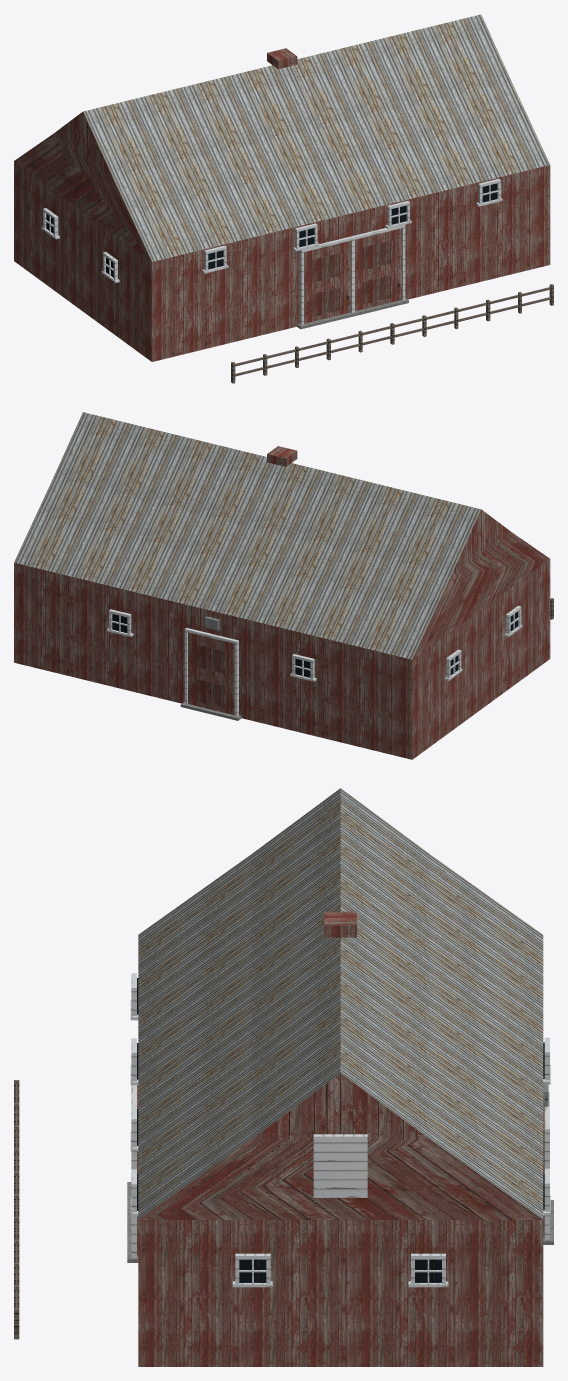
File: classic-red-barn_lod0.gltf
3 views of the same model, one above another, from view 1: azimuth 30°, elevation 25°; view 2: azimuth 150°, elevation 25°; view 3: azimuth 270°, elevation 25° (orthographic). The views are drawn at different scales.
Visible parts, largest first — view 1: classic-red-barn_roof, classic-red-barn_walls, classic-red-barn_gable_ends, classic-red-barn_fen_19-red-timber_1, classic-red-barn_fen_20-white-clapboard_0, classic-red-barn__fence, classic-red-barn_fen_19-red-timber_2_t, classic-red-barn_fen_07-glass-curtain-blue_5_t, classic-red-barn_fen_06-granite_4, classic-red-barn__cupola; view 2: classic-red-barn_roof, classic-red-barn_walls, classic-red-barn_gable_ends, classic-red-barn_fen_20-white-clapboard_0, classic-red-barn_fen_19-red-timber_1, classic-red-barn_fen_19-red-timber_2_t, classic-red-barn_fen_07-glass-curtain-blue_5_t, classic-red-barn__cupola; view 3: classic-red-barn_roof, classic-red-barn_walls, classic-red-barn_gable_ends, classic-red-barn_fen_20-white-clapboard_0, classic-red-barn__hayloft_door, classic-red-barn_fen_07-glass-curtain-blue_5_t, classic-red-barn__fence, classic-red-barn__cupola.
Boxes of the visible parts, x1,y1,x2,y2 form: classic-red-barn_roof: [83, 14, 549, 261]; classic-red-barn_walls: [14, 161, 550, 361]; classic-red-barn_gable_ends: [14, 112, 151, 261]; classic-red-barn_fen_19-red-timber_1: [304, 228, 401, 323]; classic-red-barn_fen_20-white-clapboard_0: [41, 178, 502, 325]; classic-red-barn__fence: [231, 284, 553, 383]; classic-red-barn_fen_19-red-timber_2_t: [312, 240, 392, 316]; classic-red-barn_fen_07-glass-curtain-blue_5_t: [46, 183, 497, 277]; classic-red-barn_fen_06-granite_4: [297, 298, 408, 329]; classic-red-barn__cupola: [267, 48, 297, 69]; classic-red-barn_roof: [14, 412, 480, 659]; classic-red-barn_walls: [14, 559, 550, 759]; classic-red-barn_gable_ends: [412, 509, 549, 659]; classic-red-barn_fen_20-white-clapboard_0: [107, 606, 522, 716]; classic-red-barn_fen_19-red-timber_1: [188, 632, 234, 715]; classic-red-barn_fen_19-red-timber_2_t: [196, 644, 226, 708]; classic-red-barn_fen_07-glass-curtain-blue_5_t: [112, 611, 517, 677]; classic-red-barn__cupola: [267, 446, 297, 466]; classic-red-barn_roof: [138, 788, 543, 1219]; classic-red-barn_walls: [138, 1220, 543, 1366]; classic-red-barn_gable_ends: [139, 1073, 542, 1219]; classic-red-barn_fen_20-white-clapboard_0: [130, 973, 550, 1287]; classic-red-barn__hayloft_door: [313, 1134, 367, 1197]; classic-red-barn_fen_07-glass-curtain-blue_5_t: [137, 978, 544, 1282]; classic-red-barn__fence: [14, 1080, 19, 1339]; classic-red-barn__cupola: [324, 911, 356, 937].
Bounding box in the file's own units: 25.55 × 12.52 × 20.
